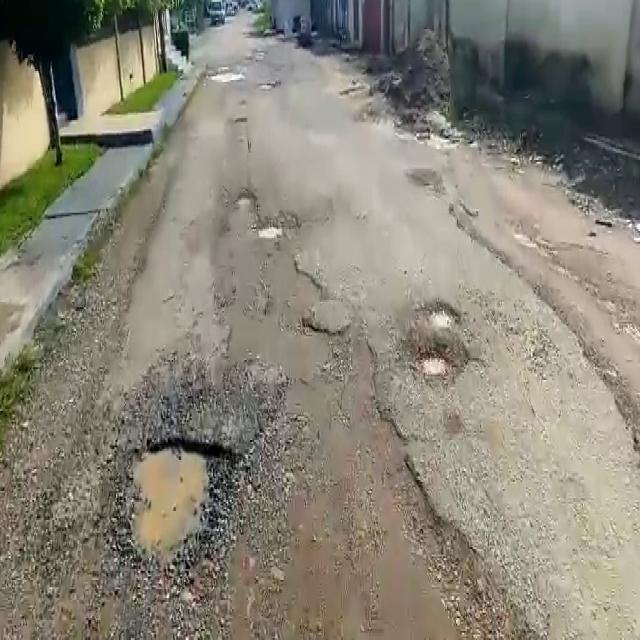Pothole: (118, 436, 232, 572), (416, 348, 454, 380), (422, 300, 459, 331), (257, 220, 283, 242), (235, 188, 257, 212)
